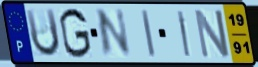G: (58, 6, 93, 60)
I: (140, 8, 157, 59), (176, 9, 192, 59)
N: (192, 7, 232, 60), (95, 7, 134, 60)
U: (24, 7, 62, 59)
